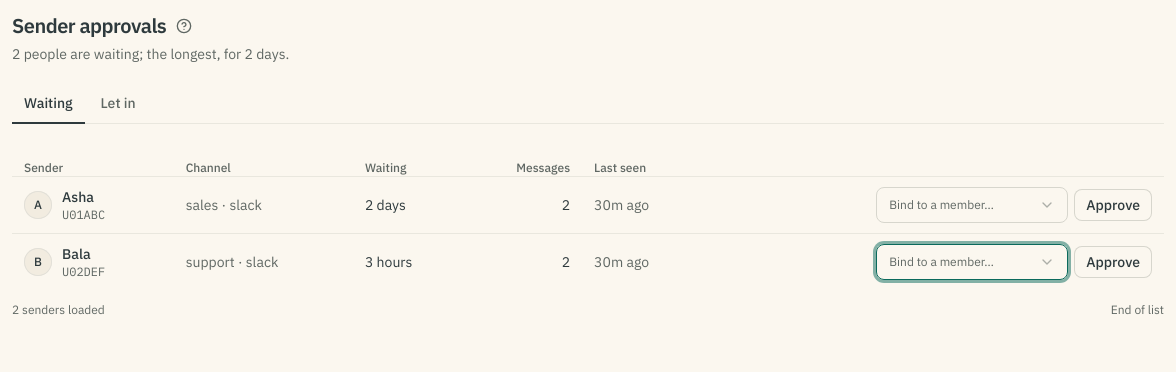
lists the member whose name fits first and marks them, but chooses no one
Expected: the text "Bala" is shown, [62,244,91,262]
Press Arrowdown
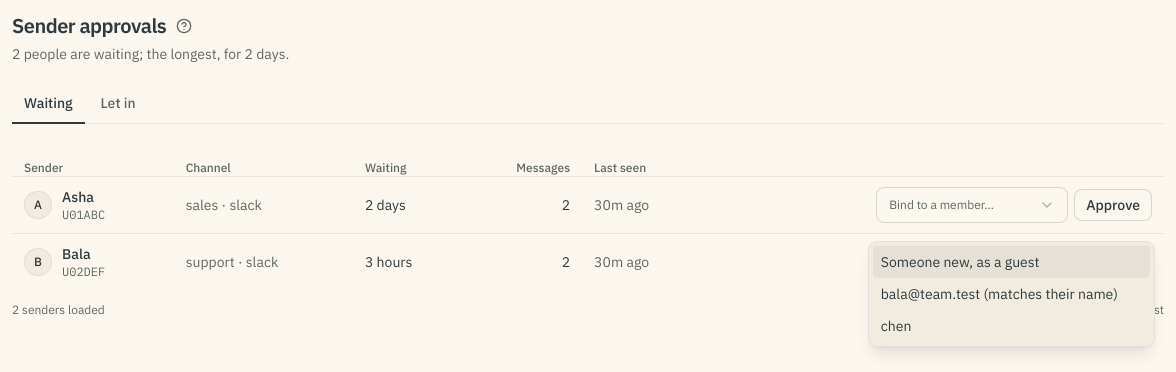
Now the options read "Someone new, as a guest", "bala@team.test (matches their name)", "chen", in this order, box [873,246,1150,278]; [881,284,1118,302]; [881,316,911,334]
Press Escape
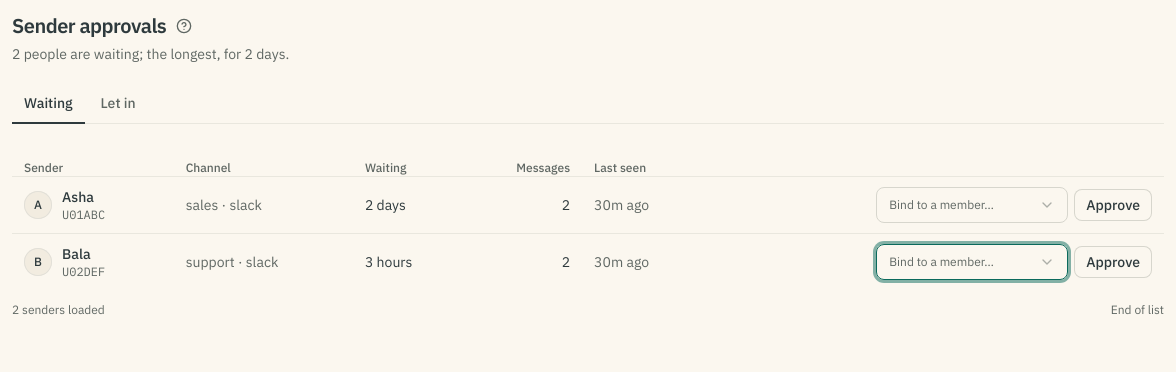
Expected: the dropdown named "Bind this sender to" reads "Bind to a member…", [876,244,1068,280]
Click the button "Approve" in the row of "Bala" at (1113, 262), box [1074,246,1152,278]
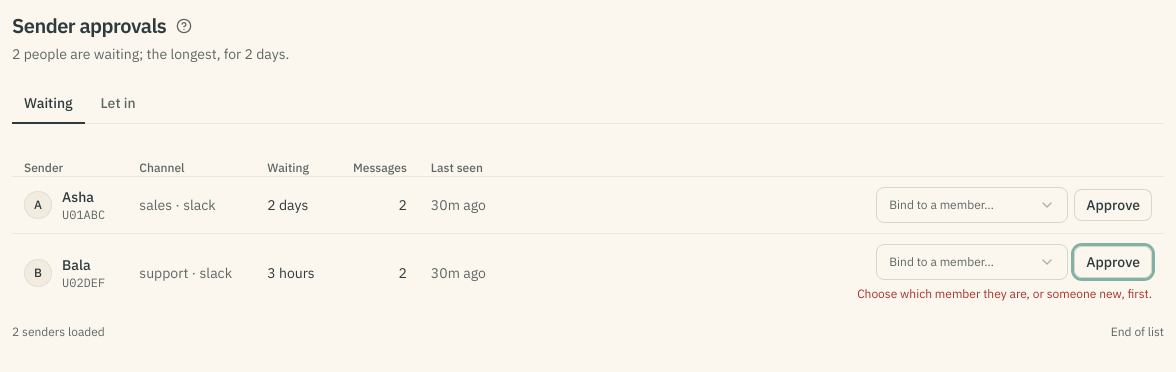
Now the message reads "Choose which member they are, or someone new, first.", box [857,286,1152,300]
